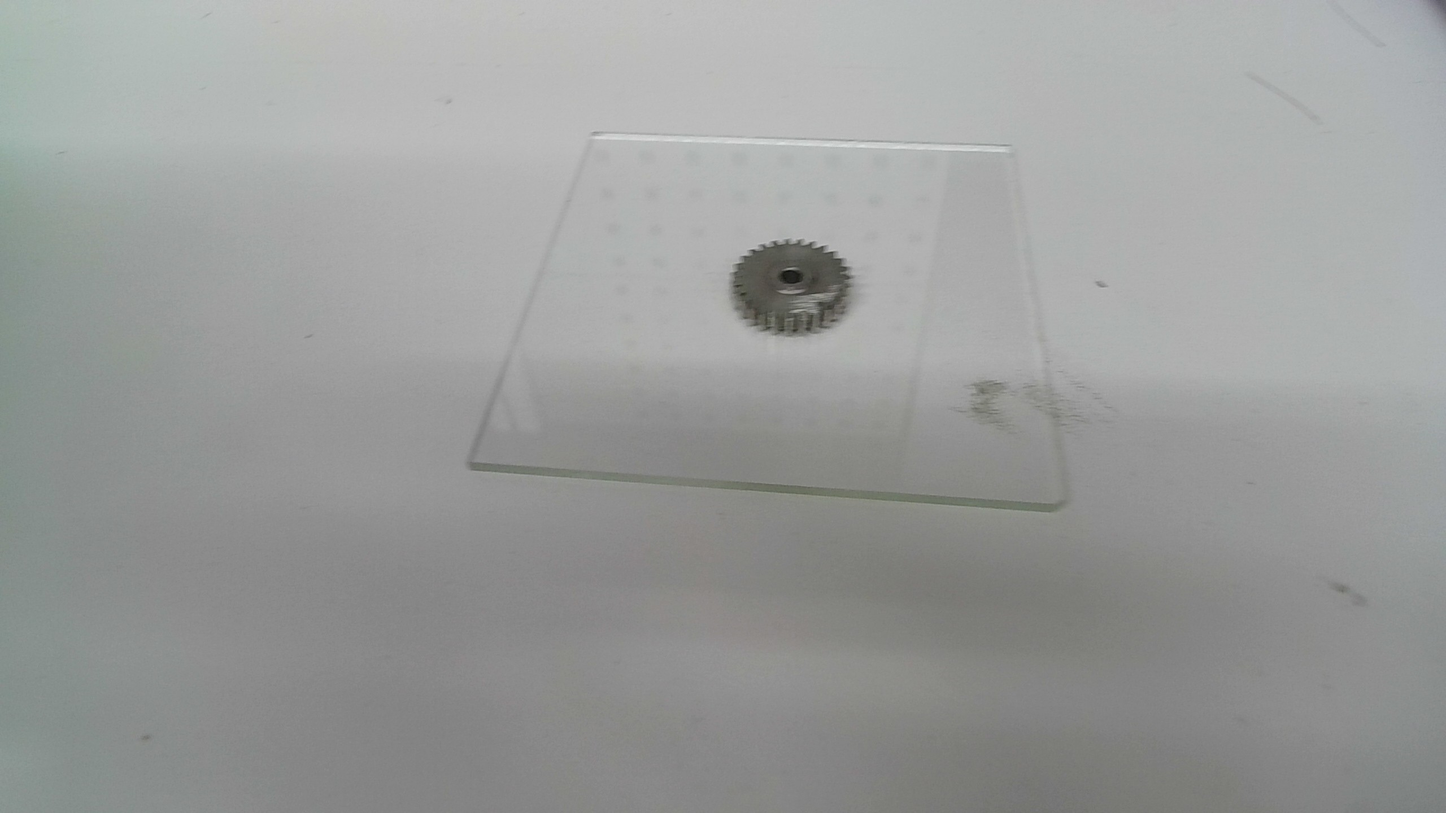gear: (726, 235, 855, 340)
